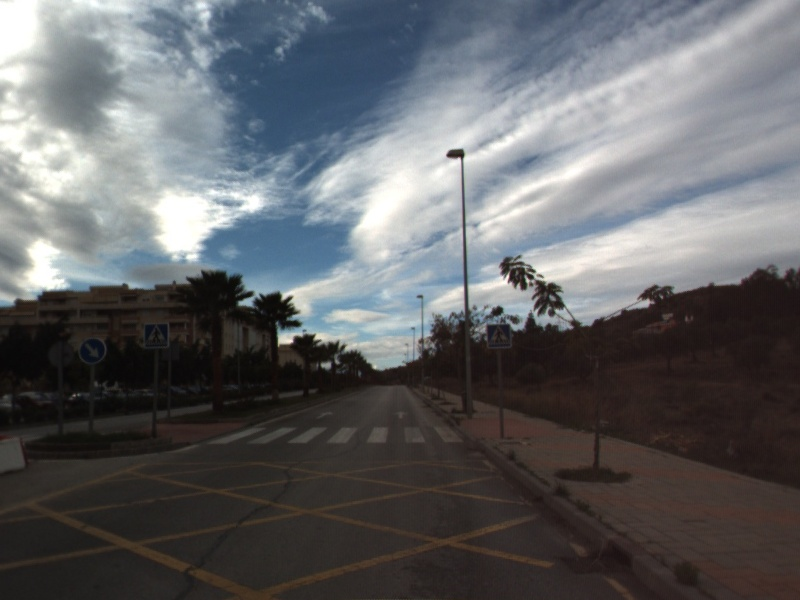STRAIGHT: (314, 409, 335, 421), (392, 409, 410, 421)
